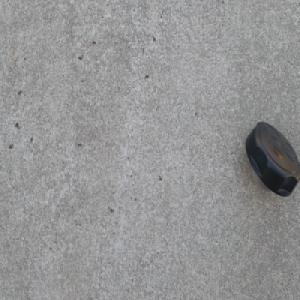FuelCap: (245, 119, 299, 196)
